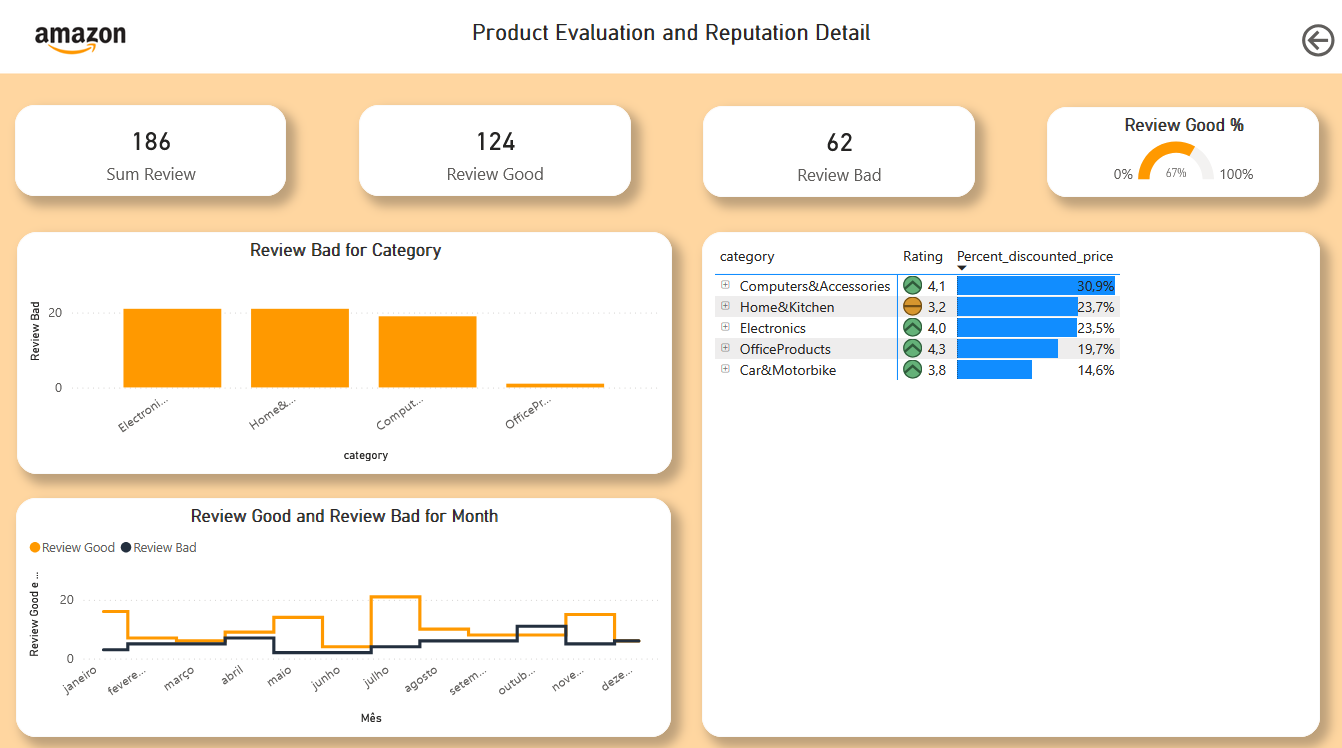

The dashboard page shown, as its layout file describes it:
{"tool":"powerbi","page":{"name":"Product Evaluation and Reputation Detail","canvas":[1280,720],"ordinal":2},"visuals":[{"type":"pivotTable","fields":{"Rows":["amazon.category","amazon.product_name"],"Values":["#Medidas.Rating","#Medidas.Percent_discounted_price"]},"box":[668.9,221.1,586.7,480],"z":0},{"type":"clusteredColumnChart","title":"Review Bad for Category","fields":{"Category":["amazon.category"],"Y":["#Medidas.Review_bad"]},"box":[17.8,221.1,622.2,230],"z":1000},{"type":"lineChart","title":"Review Good and Review Bad for Month","fields":{"Y":["#Medidas.Reviwe_god","#Medidas.Review_bad"],"Category":["Date.Date.Variation.Hierarquia de datas.Mês"]},"box":[16.7,474.4,622.2,226.7],"z":2000},{"type":"card","fields":{"Values":["#Medidas.Reviwe God"]},"box":[343.2,101,257.7,85.9],"z":3000},{"type":"card","fields":{"Values":["#Medidas.Review_bad"]},"box":[670.3,102.1,257.7,85.9],"z":4000},{"type":"card","fields":{"Values":["#Medidas.Sum_review"]},"box":[16.2,101,257.7,85.9],"z":5000},{"type":"gauge","title":"Review Good %","fields":{"Y":["#Medidas.Review God %"]},"box":[997.3,103.1,257.7,84.9],"z":6000},{"type":"actionButton","box":[1233.8,19.2,46.5,40.4],"z":7000},{"type":"textbox","box":[389.4,14.4,501.1,44.4],"z":8000}]}

Visuals, with their boxes in screenshot pixels (x1, y1, x2, y2), scaled from the page's 1280x720 canvas onto the 1342x748 screenshot:
pivotTable - amazon.category x amazon.product_name: 701/230/1316/728
"Review Bad for Category" clusteredColumnChart: 19/230/671/469
"Review Good and Review Bad for Month" lineChart: 18/493/670/728
card - #Medidas.Reviwe God: 360/105/630/194
card - #Medidas.Review_bad: 703/106/973/195
card - #Medidas.Sum_review: 17/105/287/194
"Review Good %" gauge: 1046/107/1316/195
actionButton: 1294/20/1341/62
textbox: 408/15/934/61
